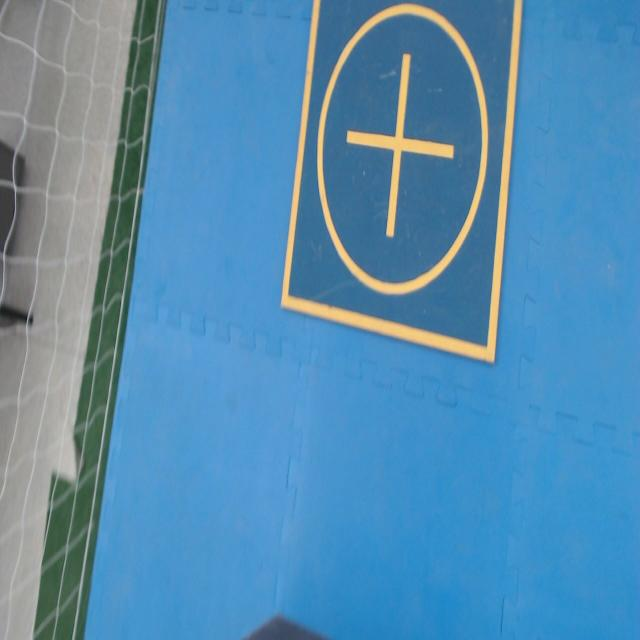base_pouso: (282, 0, 522, 362)
